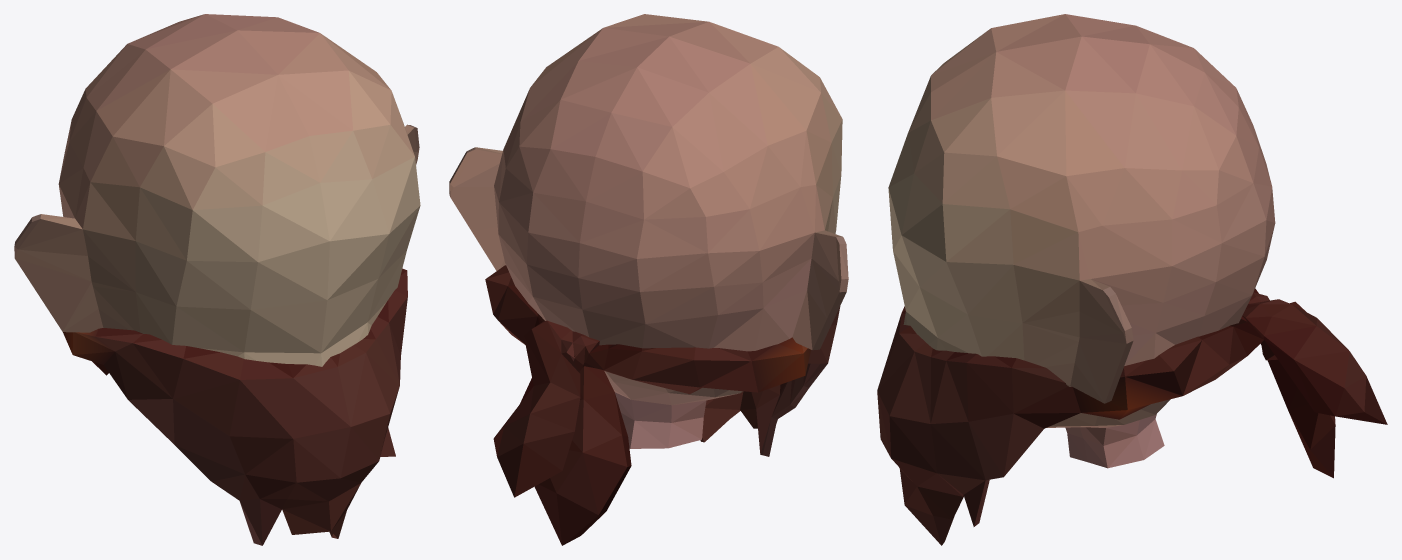
Rendered from helm_lightskin_bald_bandana.fbx.
The picture shows the model from 3 angles, left to right: view 1: azimuth 30°, elevation 25°; view 2: azimuth 150°, elevation 25°; view 3: azimuth 270°, elevation 25°; orthographic projection. The views are drawn at different scales.
Parts seen in each view (by area): view 1: helm_lightskin_bald_bandana; view 2: helm_lightskin_bald_bandana; view 3: helm_lightskin_bald_bandana.
Part boxes in pixels (<box>): helm_lightskin_bald_bandana: <box>14,14,420,545</box>; helm_lightskin_bald_bandana: <box>449,14,848,545</box>; helm_lightskin_bald_bandana: <box>877,14,1387,545</box>.
Size of the model in its own units: 1.12 by 1.24 by 1.17.
